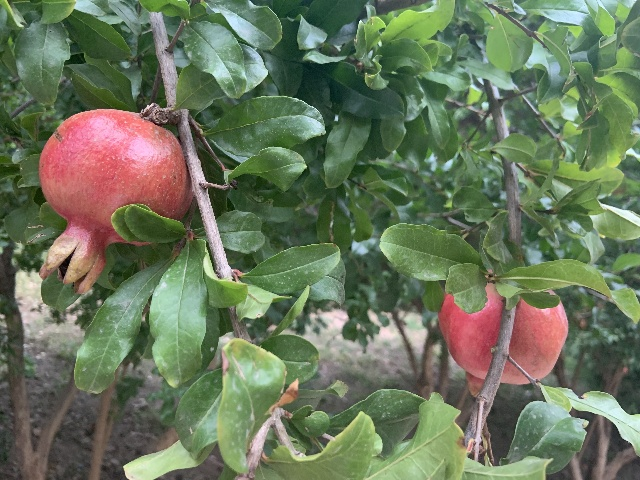ripe: (37, 108, 191, 294), (438, 279, 567, 396)
